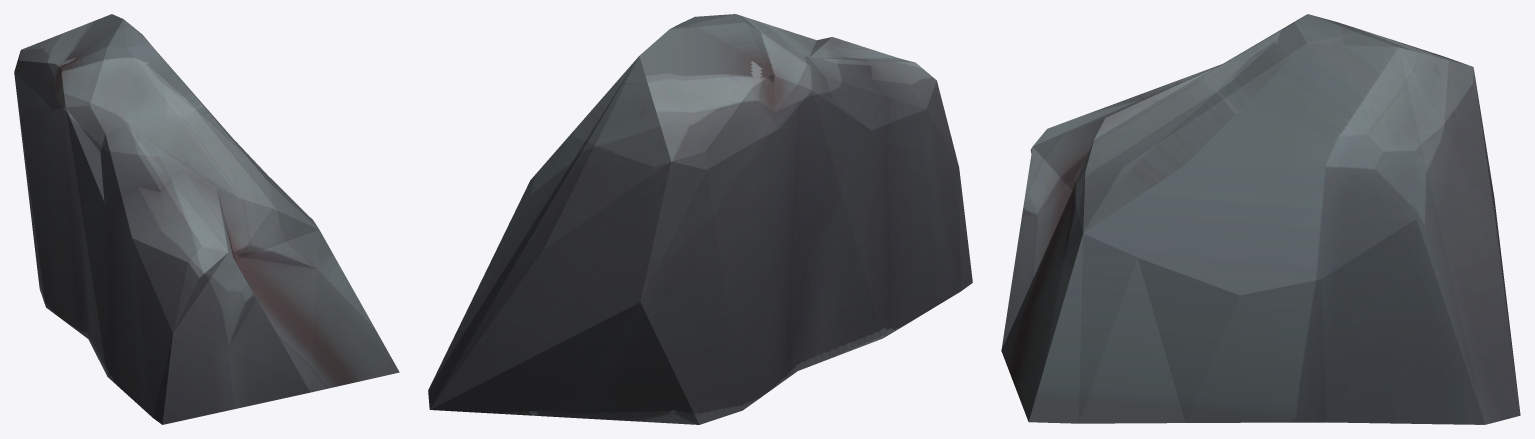
Rendered from SM_Rock02.fbx.
The picture shows the model from 3 angles, left to right: view 1: azimuth 30°, elevation 25°; view 2: azimuth 150°, elevation 25°; view 3: azimuth 270°, elevation 25°; orthographic projection. The views are drawn at different scales.
Visible parts, largest first — view 1: SM_Rock02; view 2: SM_Rock02; view 3: SM_Rock02.
Part boxes in pixels (x1,y1,x2,y2): SM_Rock02: (14, 14, 399, 424); SM_Rock02: (428, 14, 972, 424); SM_Rock02: (1001, 14, 1520, 424).
Bounding box in the file's own units: 2.37 × 2.67 × 3.97.
